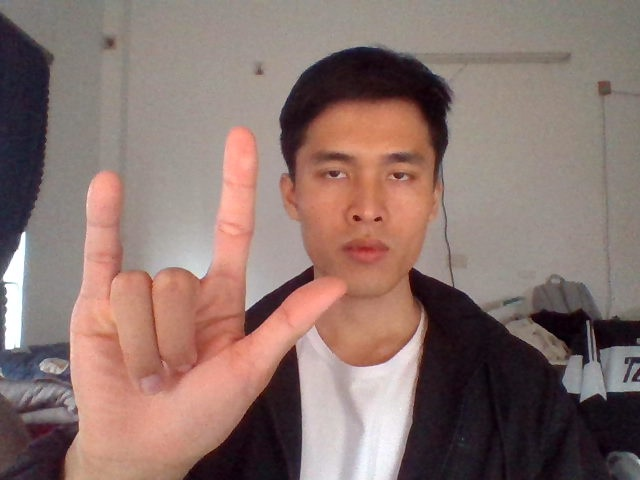ILoveYou: (66, 119, 353, 448)
